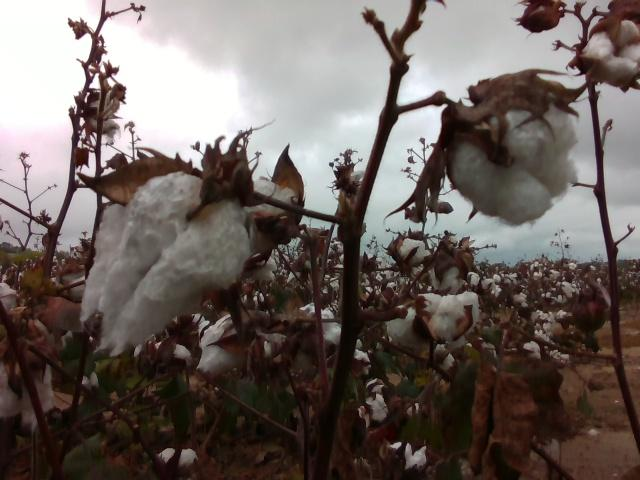cotton_ready: (76, 175, 251, 356), (444, 87, 580, 225), (0, 320, 59, 429), (387, 288, 479, 350), (298, 302, 373, 368), (579, 19, 640, 88), (242, 174, 301, 245), (197, 318, 270, 374), (85, 86, 122, 146), (355, 378, 391, 428), (387, 440, 428, 474), (399, 237, 433, 269), (157, 447, 199, 470), (346, 169, 366, 209)
